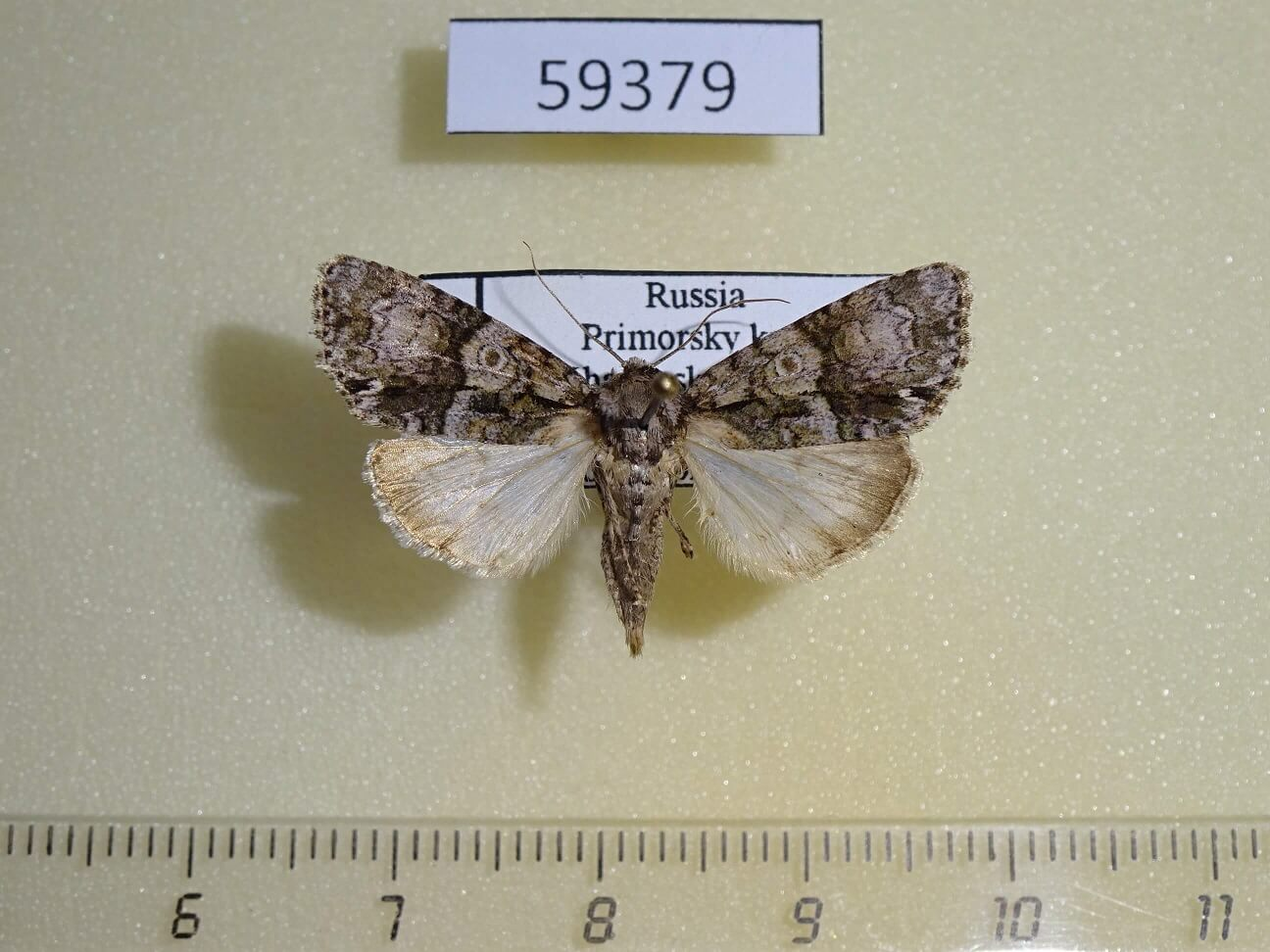Noctuidae: (308, 248, 977, 654)
